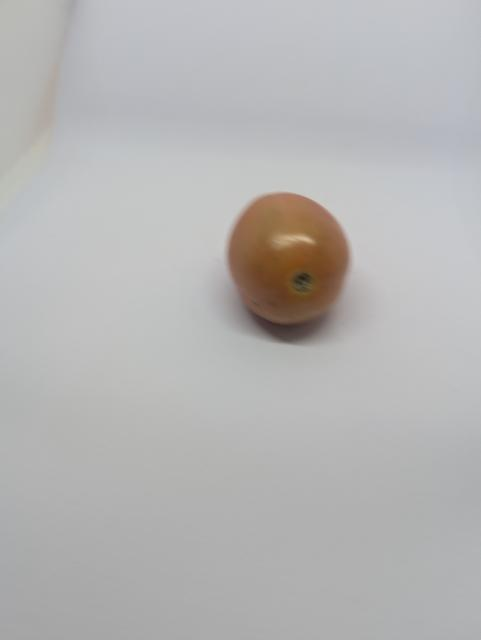turning: (218, 189, 363, 335)
